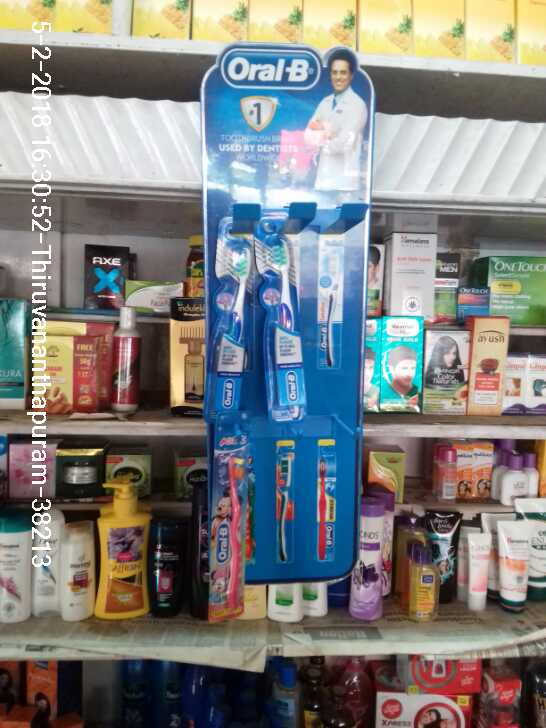oralb: (249, 212, 308, 416), (201, 217, 249, 411), (214, 408, 247, 617)
